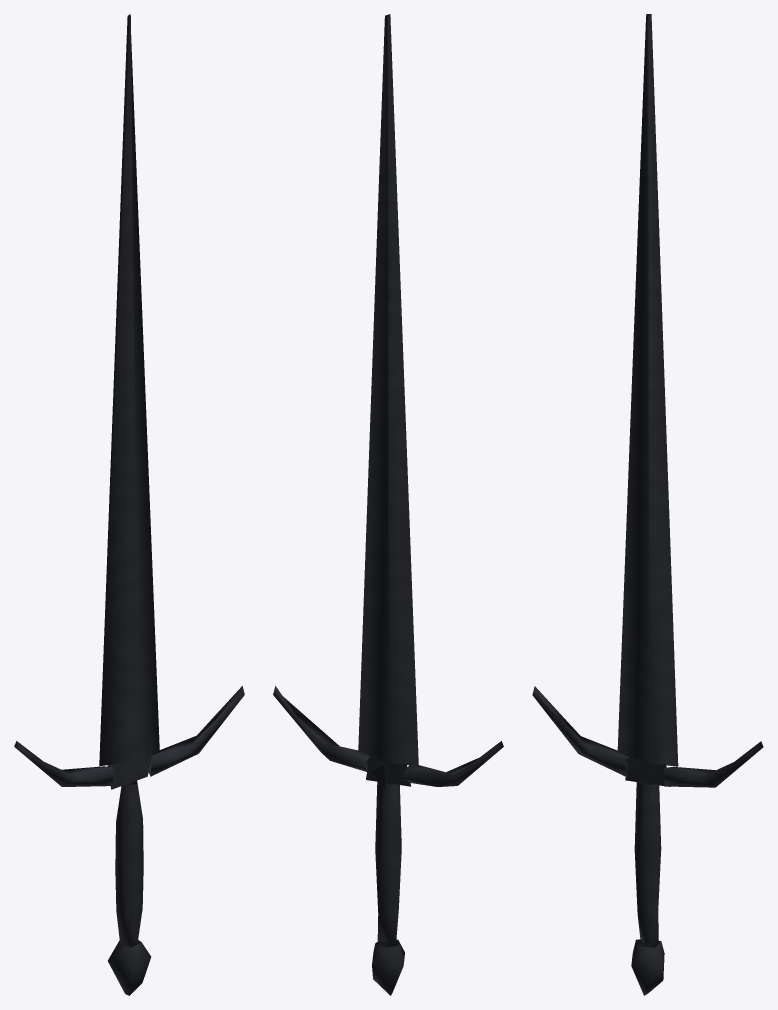
File: aion2_dark_fantasy_sword_LOD2.glb
3 renders of one model, left to right at view 1: azimuth 30°, elevation 25°; view 2: azimuth 150°, elevation 25°; view 3: azimuth 330°, elevation 25°, orthographic.
Parts seen in each view (by area): view 1: aion2_dark_fantasy_sword_LOD2; view 2: aion2_dark_fantasy_sword_LOD2; view 3: aion2_dark_fantasy_sword_LOD2.
Part boxes in pixels (x1,y1,x2,y2): aion2_dark_fantasy_sword_LOD2: (14,14,244,995); aion2_dark_fantasy_sword_LOD2: (273,14,503,995); aion2_dark_fantasy_sword_LOD2: (532,14,763,995).
Bounding box in the file's own units: 0.4142 × 1.71 × 0.0677.
1 material, 1 textured.
